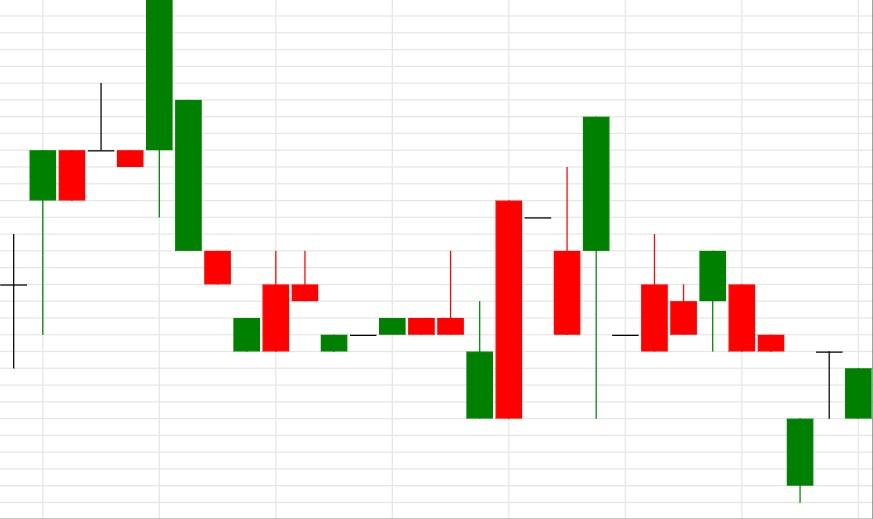bullish_engulfing_rise: (145, 0, 290, 352), (378, 199, 523, 419)
